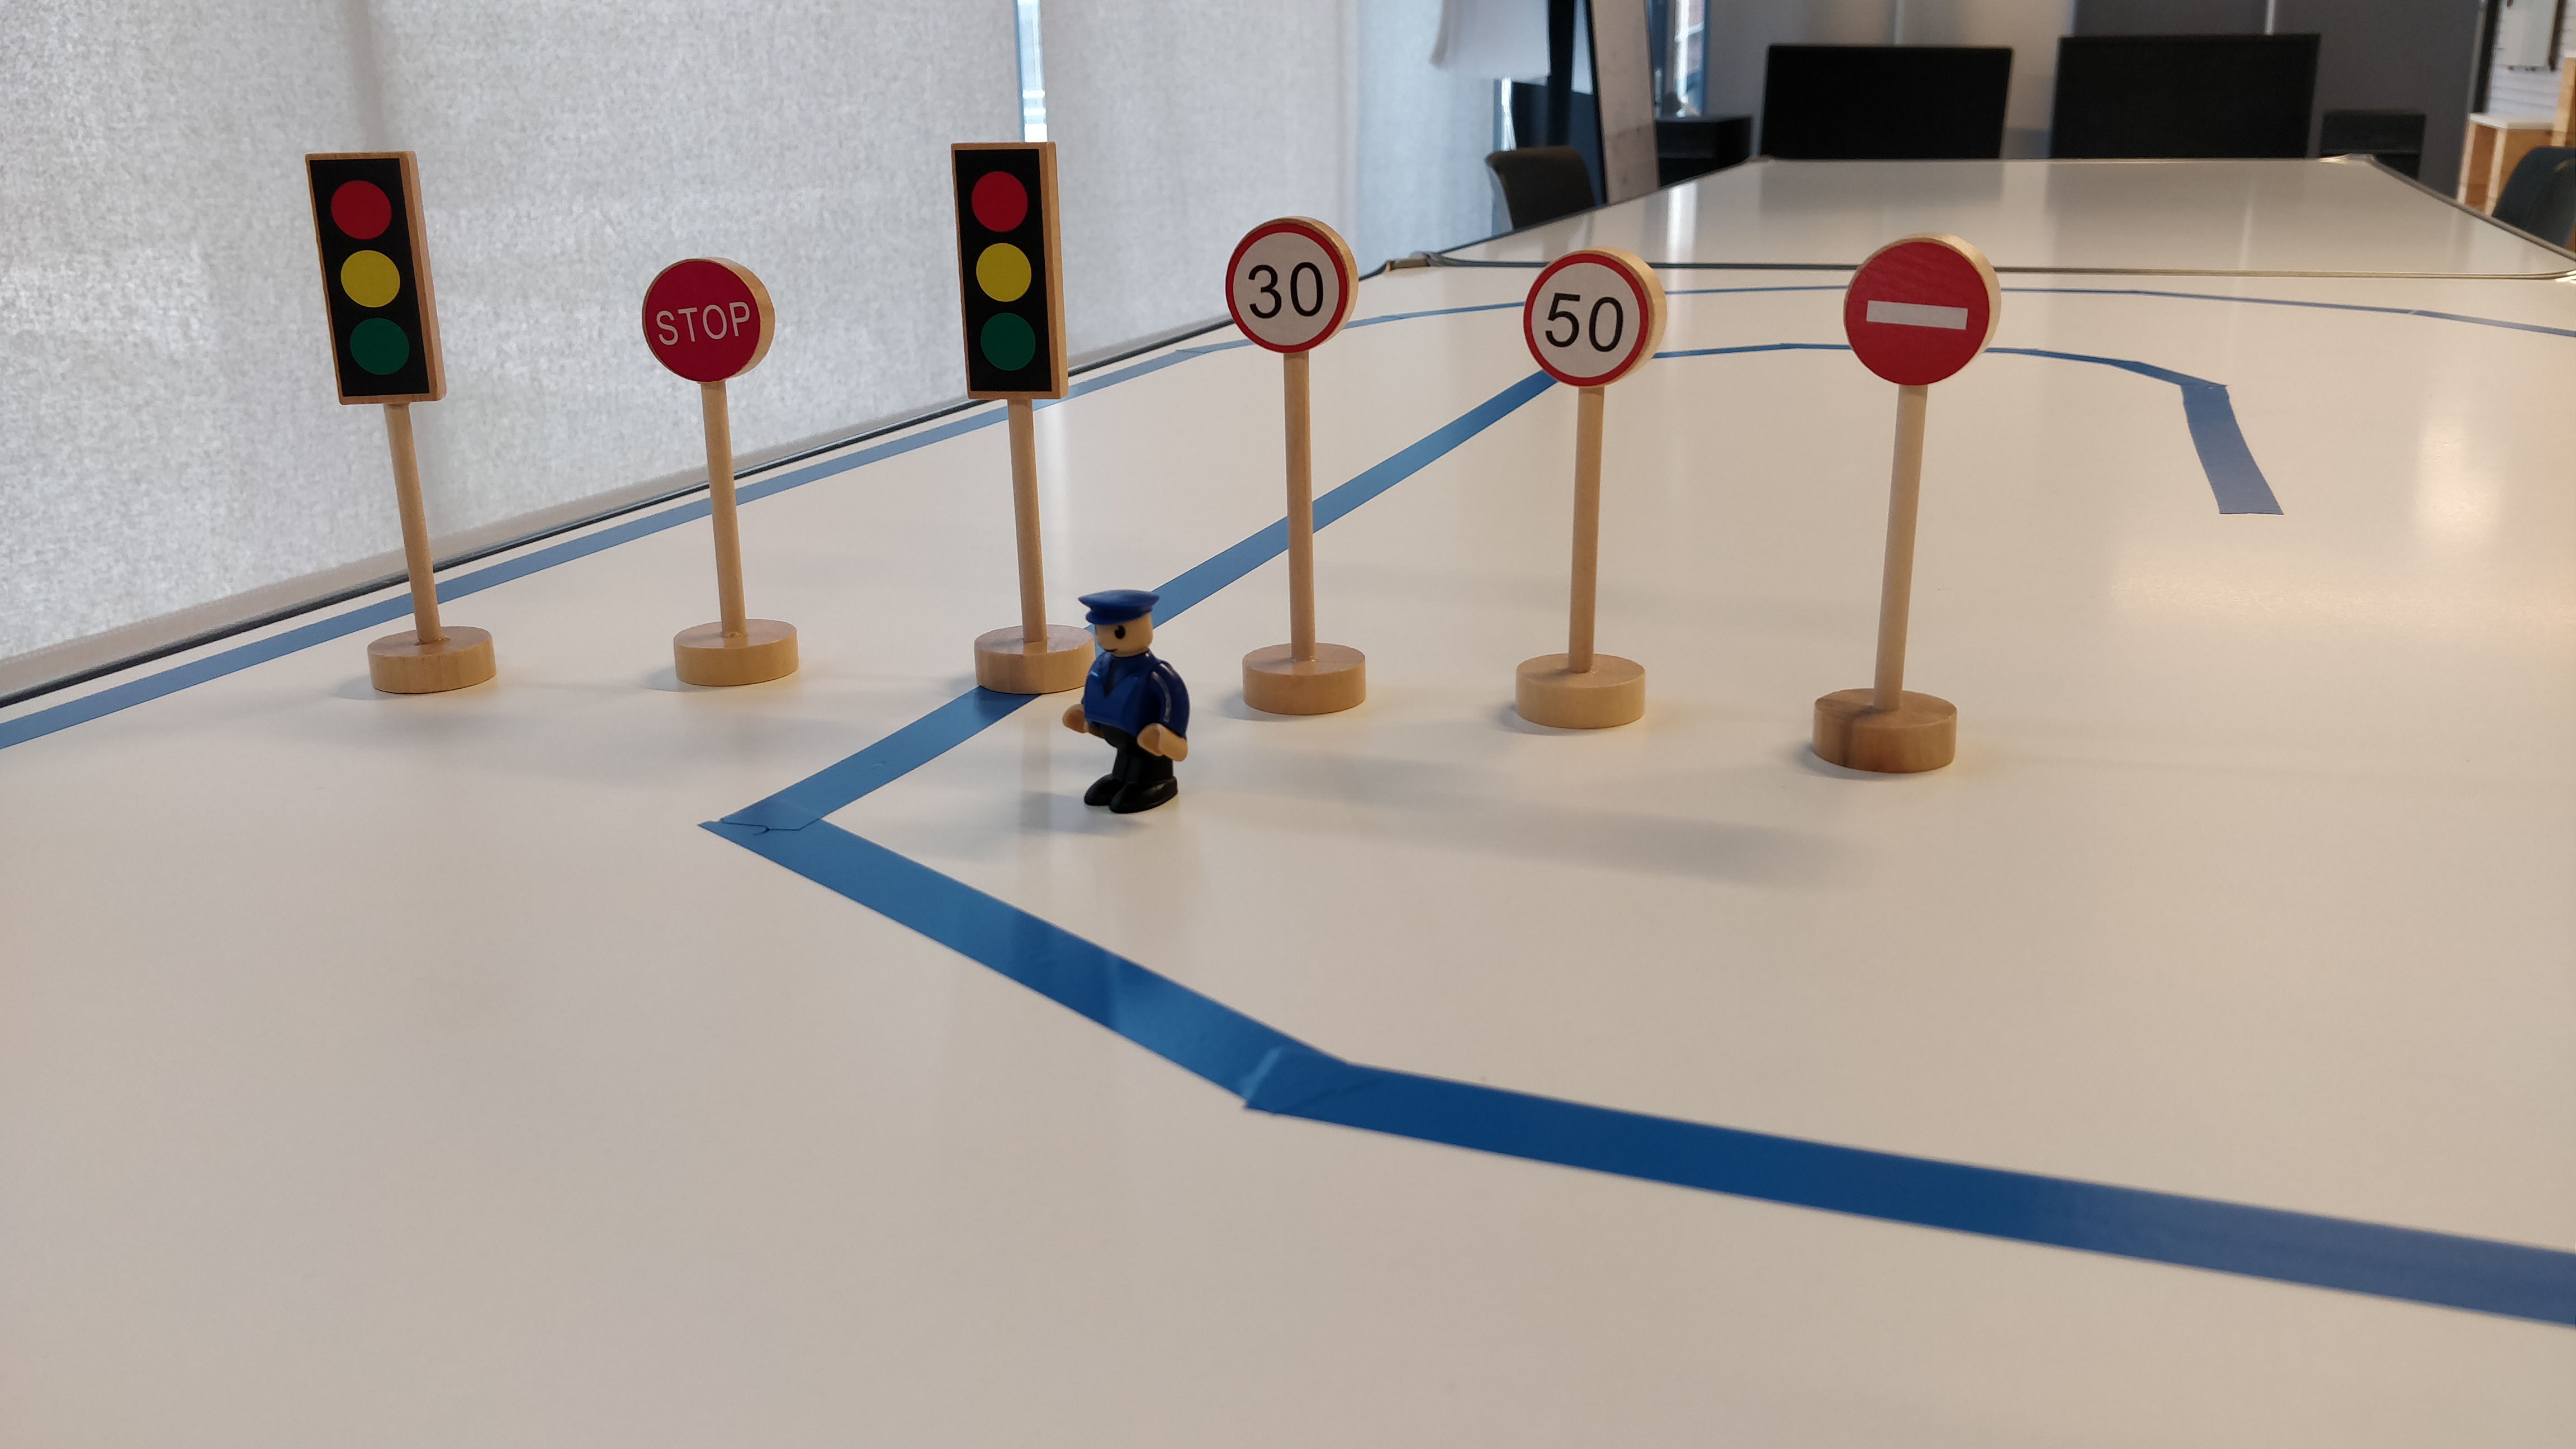Person: (1056, 578, 1197, 822)
Prohibition Sign: (1839, 232, 2003, 392)
Speed Limit 30: (1218, 210, 1362, 358)
Speed Limit 50: (1520, 245, 1670, 389)
Stop Sign: (637, 257, 779, 385)
Traffic Light: (307, 153, 447, 405), (949, 138, 1075, 402)
